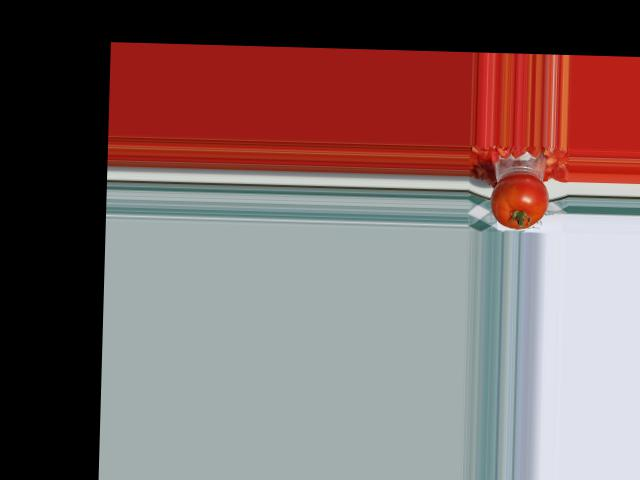tomato: (489, 172, 550, 230)
